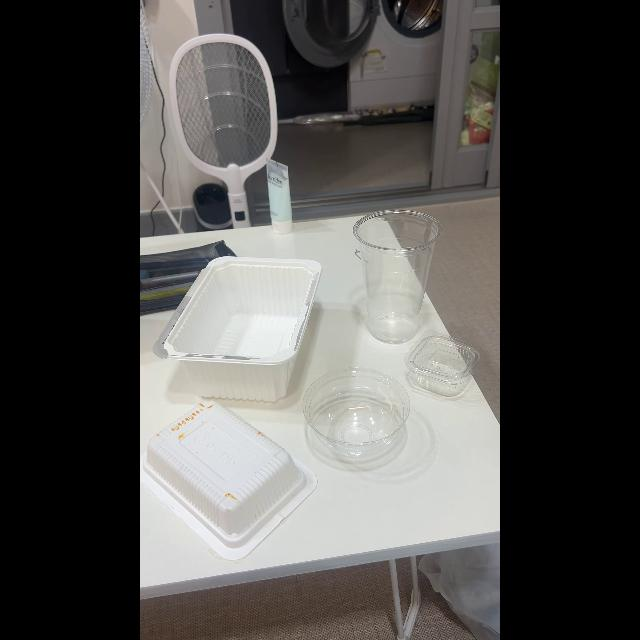clean: (170, 259, 322, 395), (353, 212, 441, 336), (303, 367, 412, 458), (405, 334, 481, 394)
dirty: (146, 399, 304, 539)
